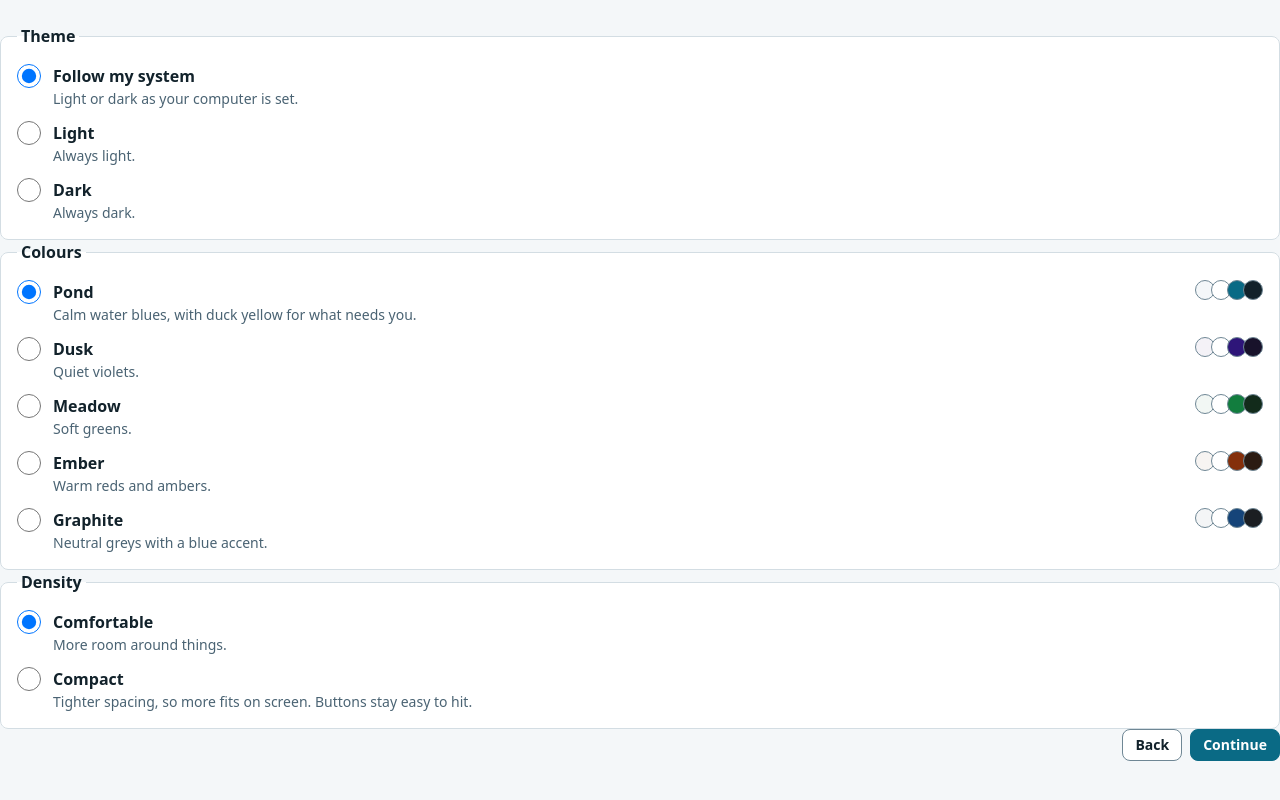
Test: look step › applies a palette at once and keeps it in the settings
This screenshot has width=1280, height=800.
Click the radio button labelled "Meadow Soft greens." at (29, 406), box [17,394,41,418]
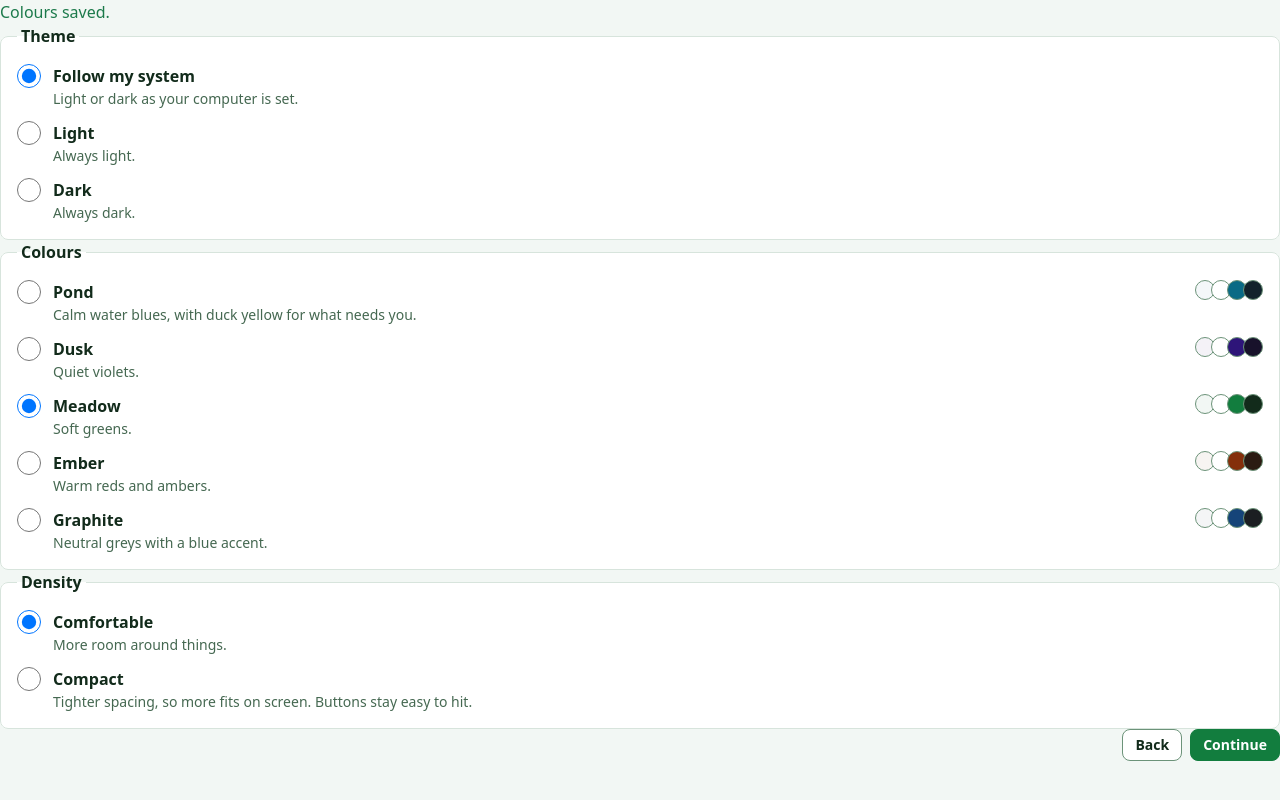
expect the text "Colours saved." is shown: met, box [0,1,110,23]
